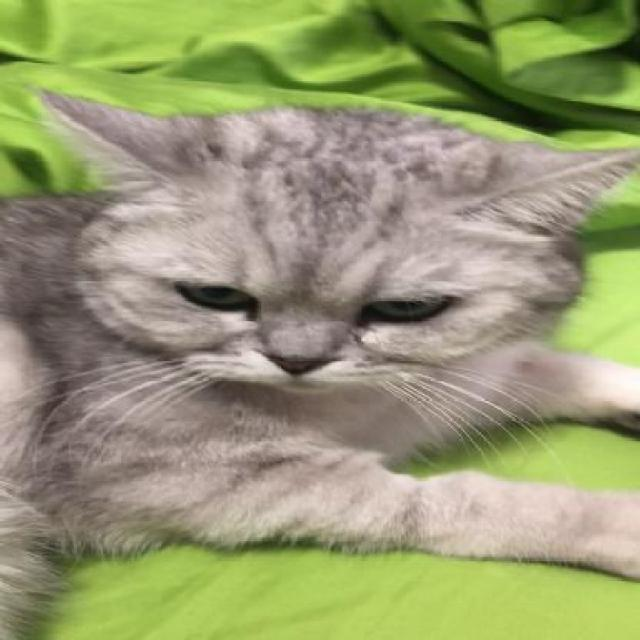cat-face: (30, 90, 639, 402)
